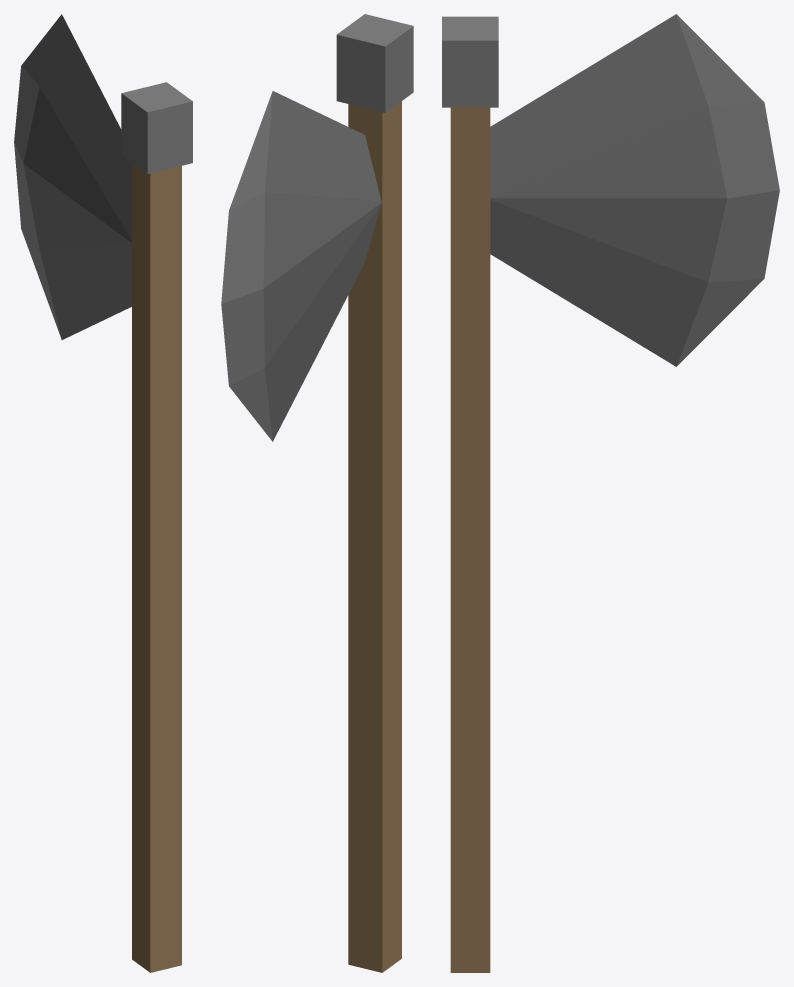
The model's file is Axe_02.fbx.
3 views of the same model, side by side, from view 1: azimuth 30°, elevation 25°; view 2: azimuth 150°, elevation 25°; view 3: azimuth 270°, elevation 25° (orthographic). The views are drawn at different scales.
Parts seen in each view (by area): view 1: Axe_02; view 2: Axe_02; view 3: Axe_02.
Part boxes in pixels (x1,y1,x2,y2): Axe_02: [14, 14, 192, 972]; Axe_02: [221, 14, 413, 972]; Axe_02: [442, 14, 779, 972].
Size of the model in its own units: 1.02 by 18.88 by 6.08.
